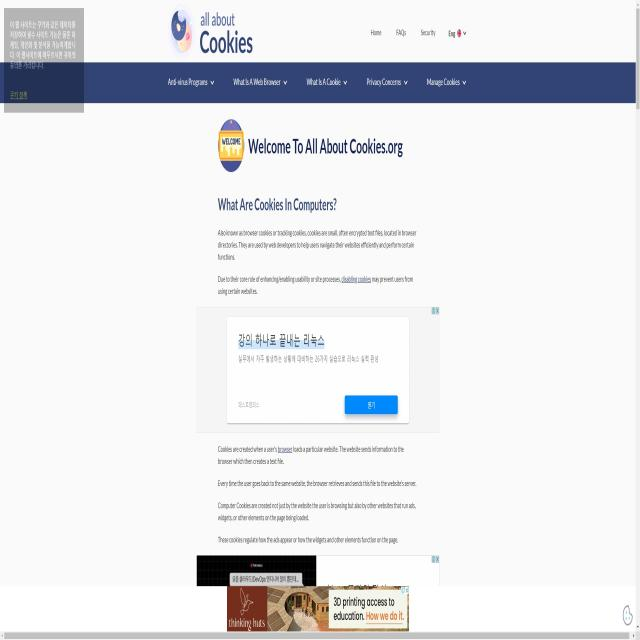menu-bar: (359, 22, 477, 56)
tab-bar: (159, 59, 469, 102)
